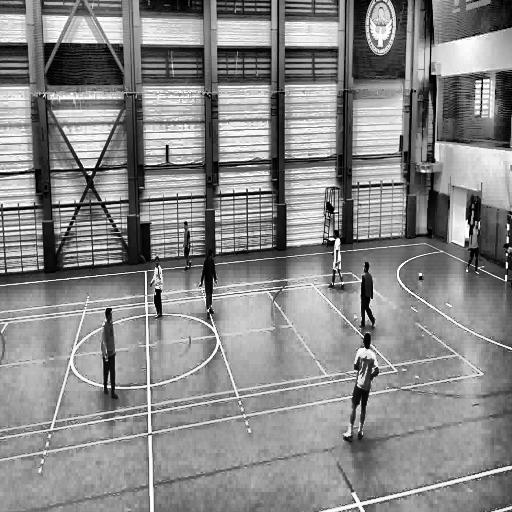ball: (418, 268, 424, 282)
player: (343, 332, 380, 451), (100, 306, 121, 402), (199, 248, 220, 318), (326, 228, 346, 293), (360, 260, 378, 330), (150, 255, 168, 322), (464, 222, 482, 277), (180, 218, 195, 271), (503, 239, 512, 292)
